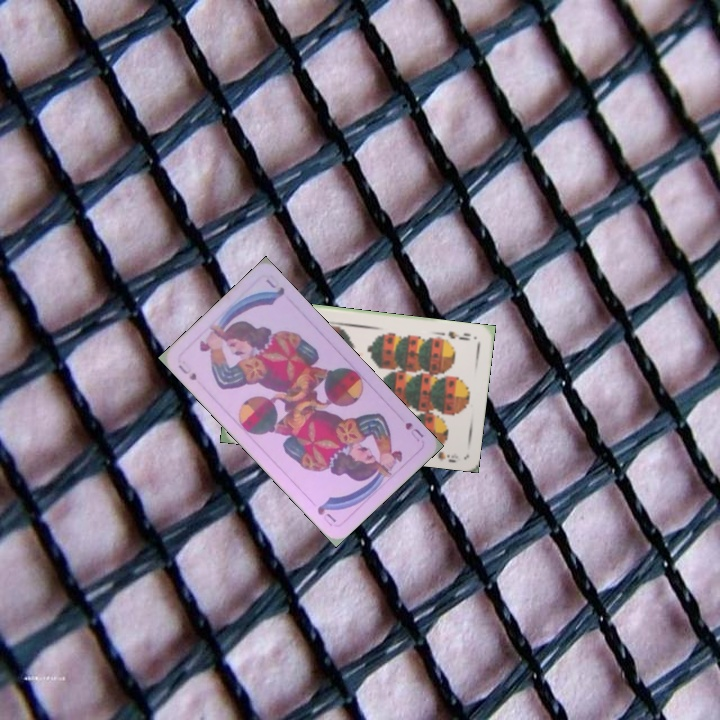S9: (444, 327, 473, 343)
SU: (401, 418, 427, 444), (174, 360, 199, 385)
